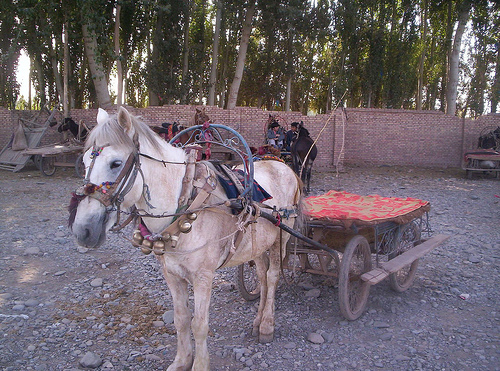horse: (71, 104, 304, 371)
